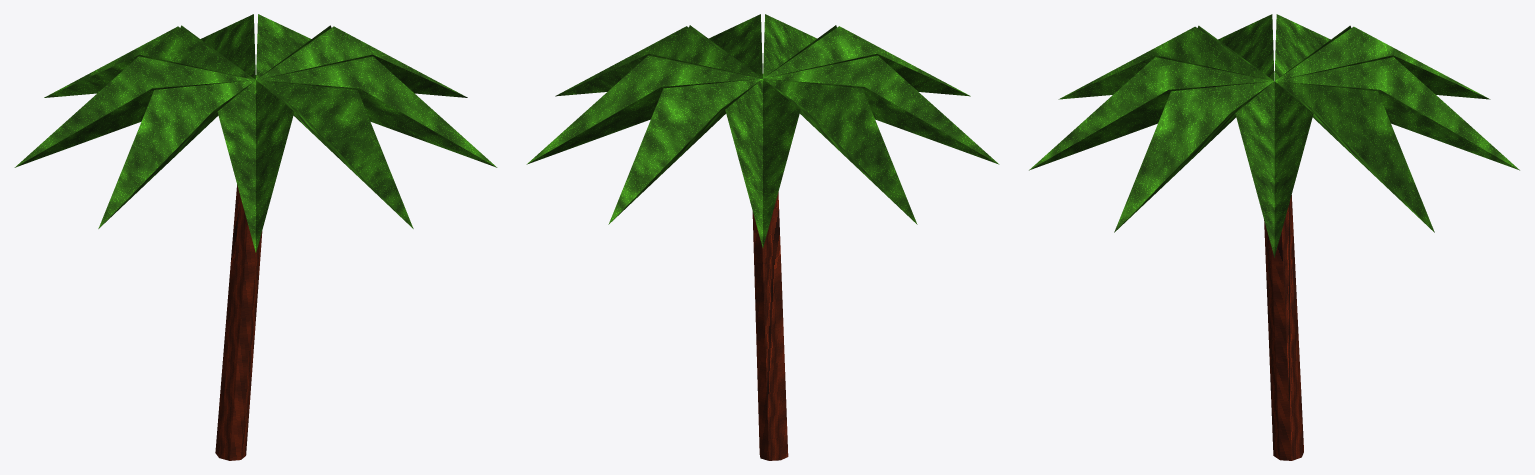
Rendered from palm.glb.
3 renders of one model, left to right at view 1: azimuth 30°, elevation 25°; view 2: azimuth 150°, elevation 25°; view 3: azimuth 270°, elevation 25°, orthographic. The views are drawn at different scales.
Parts seen in each view (by area): view 1: Canopy, Body; view 2: Canopy, Body; view 3: Canopy, Body.
Part boxes in pixels (x1=…): Canopy: x1=14, y1=14, x2=497, y2=252; Body: x1=215, y1=184, x2=262, y2=460; Canopy: x1=526, y1=14, x2=999, y2=247; Body: x1=752, y1=192, x2=788, y2=460; Canopy: x1=1029, y1=14, x2=1519, y2=257; Body: x1=1264, y1=195, x2=1303, y2=460.
Bounding box in the file's own units: 6.79 × 6.17 × 6.89.
2 materials, 2 textured.
